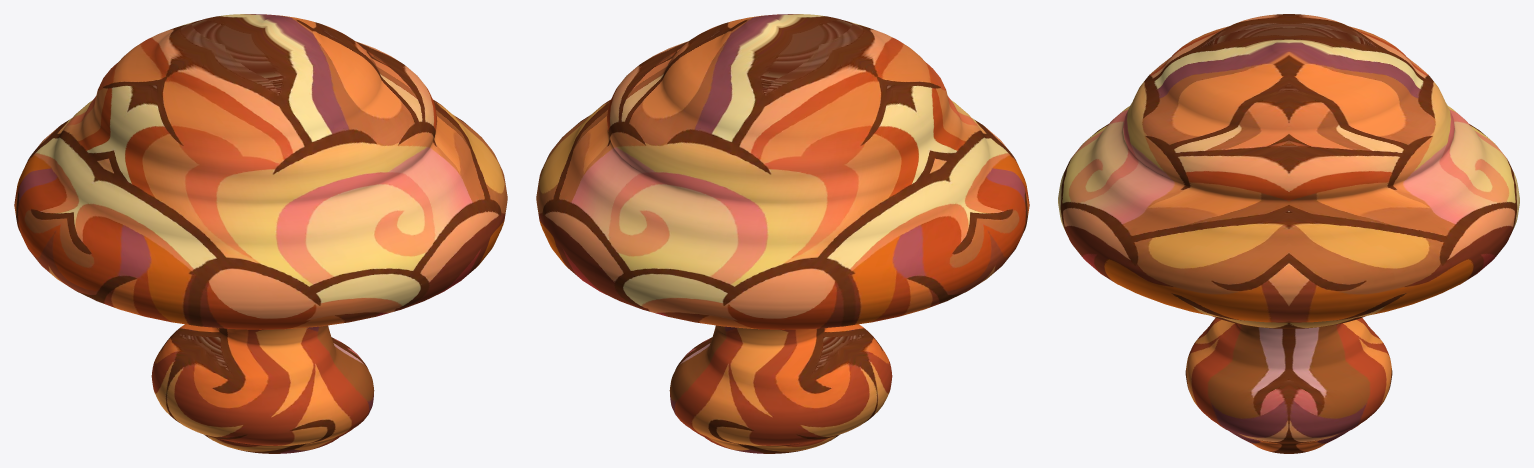
Rendered from spiral_tree.glb.
The picture shows the model from 3 angles, left to right: view 1: azimuth 30°, elevation 25°; view 2: azimuth 150°, elevation 25°; view 3: azimuth 270°, elevation 25°; orthographic projection. The views are drawn at different scales.
Visible parts, largest first — view 1: spiral_tree; view 2: spiral_tree; view 3: spiral_tree.
Boxes of the visible parts, bbox=[...] form: spiral_tree: bbox=[14, 14, 507, 453]; spiral_tree: bbox=[536, 14, 1029, 453]; spiral_tree: bbox=[1058, 14, 1519, 453].
Bounding box in the file's own units: 1 × 0.9429 × 0.998.
1 material, 1 textured.
